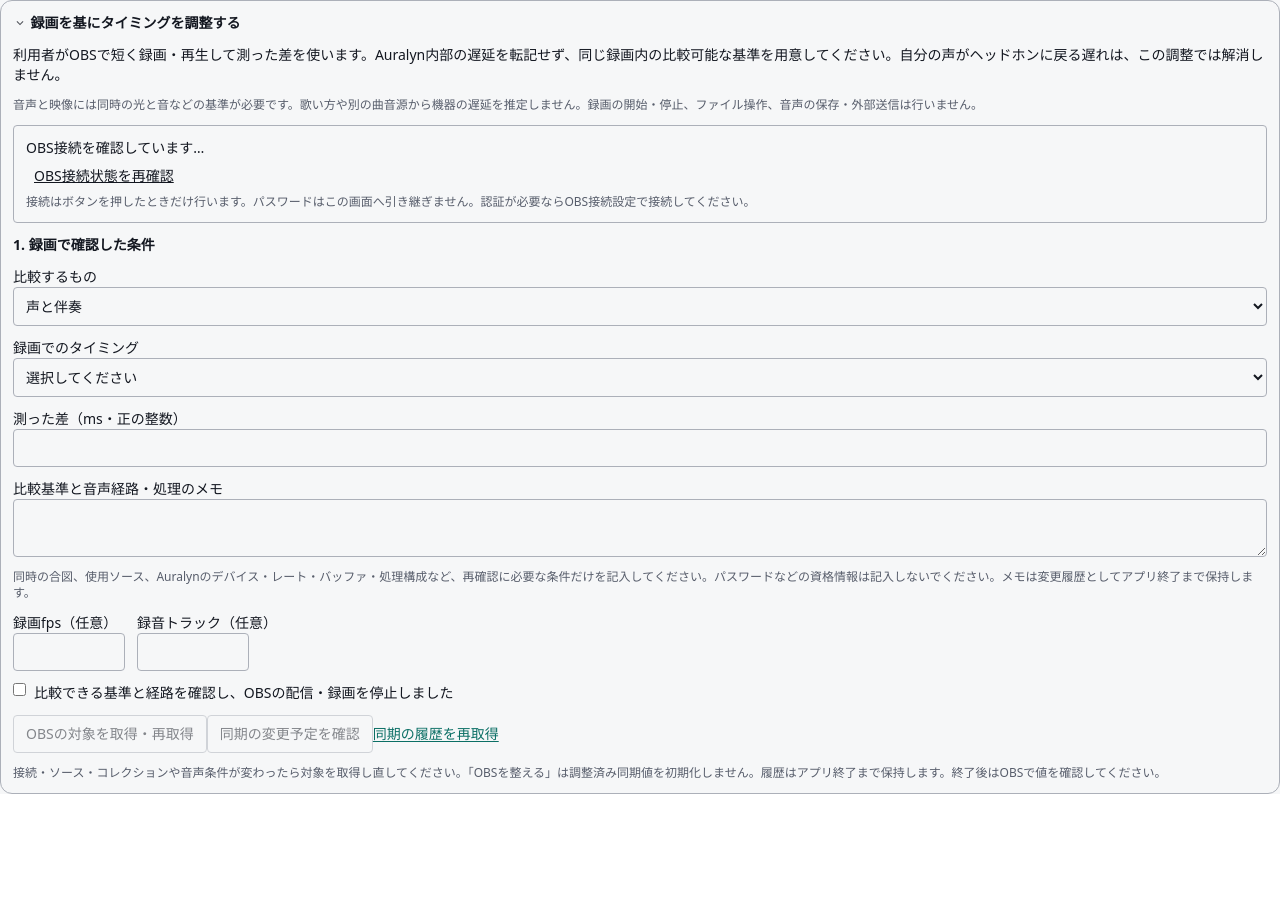
it: API未対応は対象選択や適用へ進めず手動確認を残す
Select "声と伴奏" in the dropdown labelled "比較するもの" at (640, 306), box [13,287,1267,326]
Select "声が伴奏より早い" in the dropdown labelled "録画でのタイミング" at (640, 378), box [13,358,1267,397]
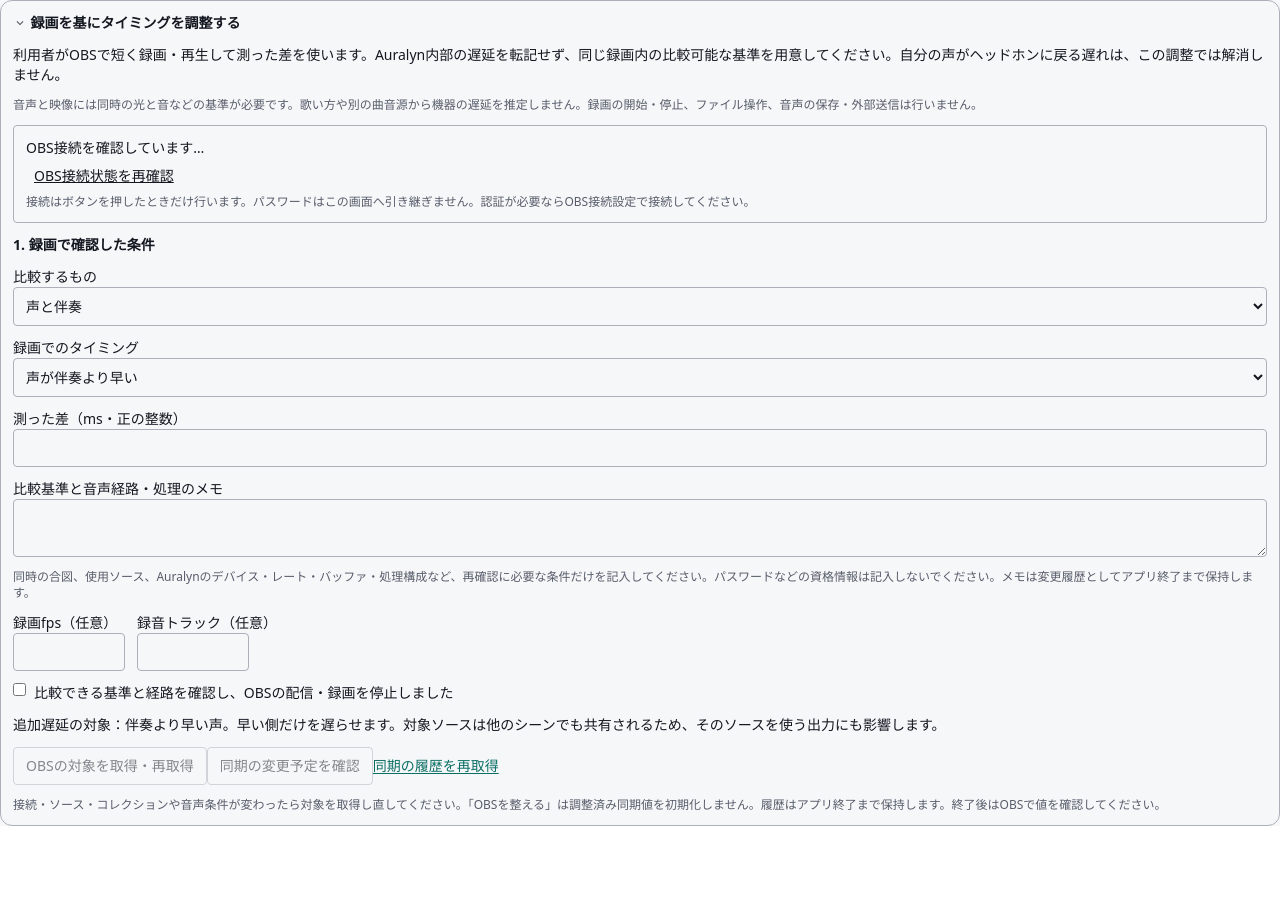
Type "120" into the number field labelled "測った差（ms・正の整数）" at (640, 448), box [13,429,1267,467]
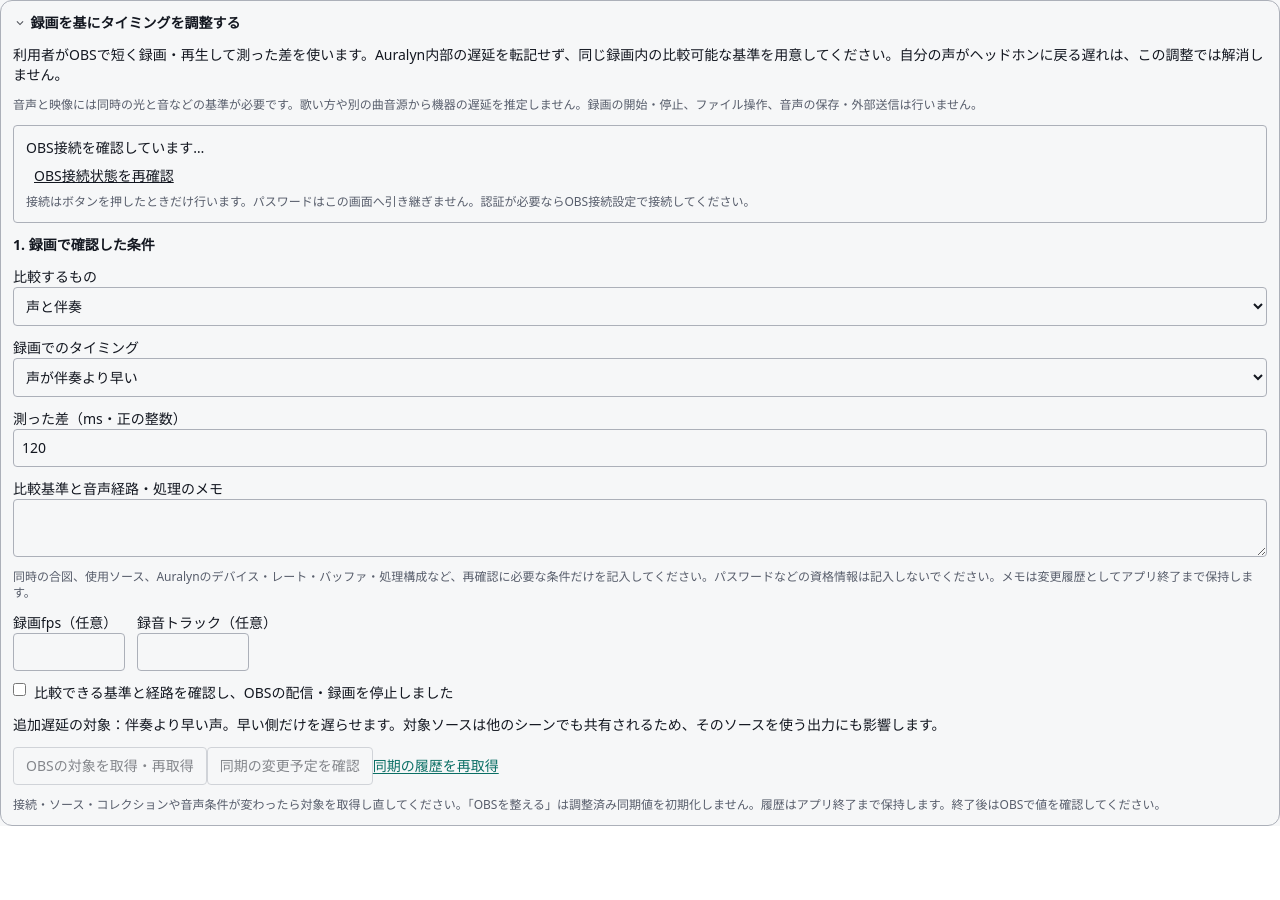
Type "同じ録画の同時の合図" into the text box labelled "比較基準と音声経路・処理のメモ" at (640, 528), box [13,499,1267,557]
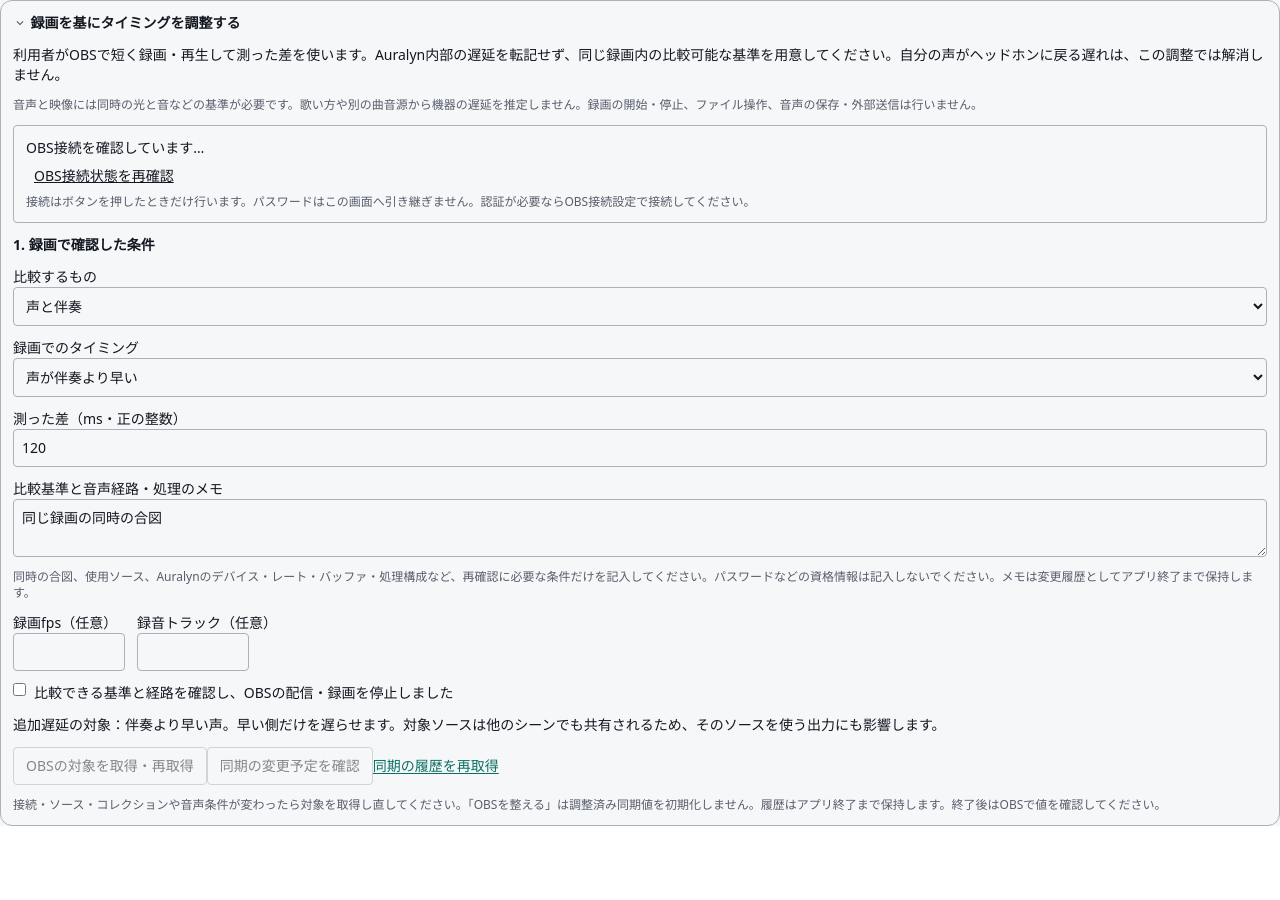
Click the checkbox at (20, 690), box [13,683,26,696]
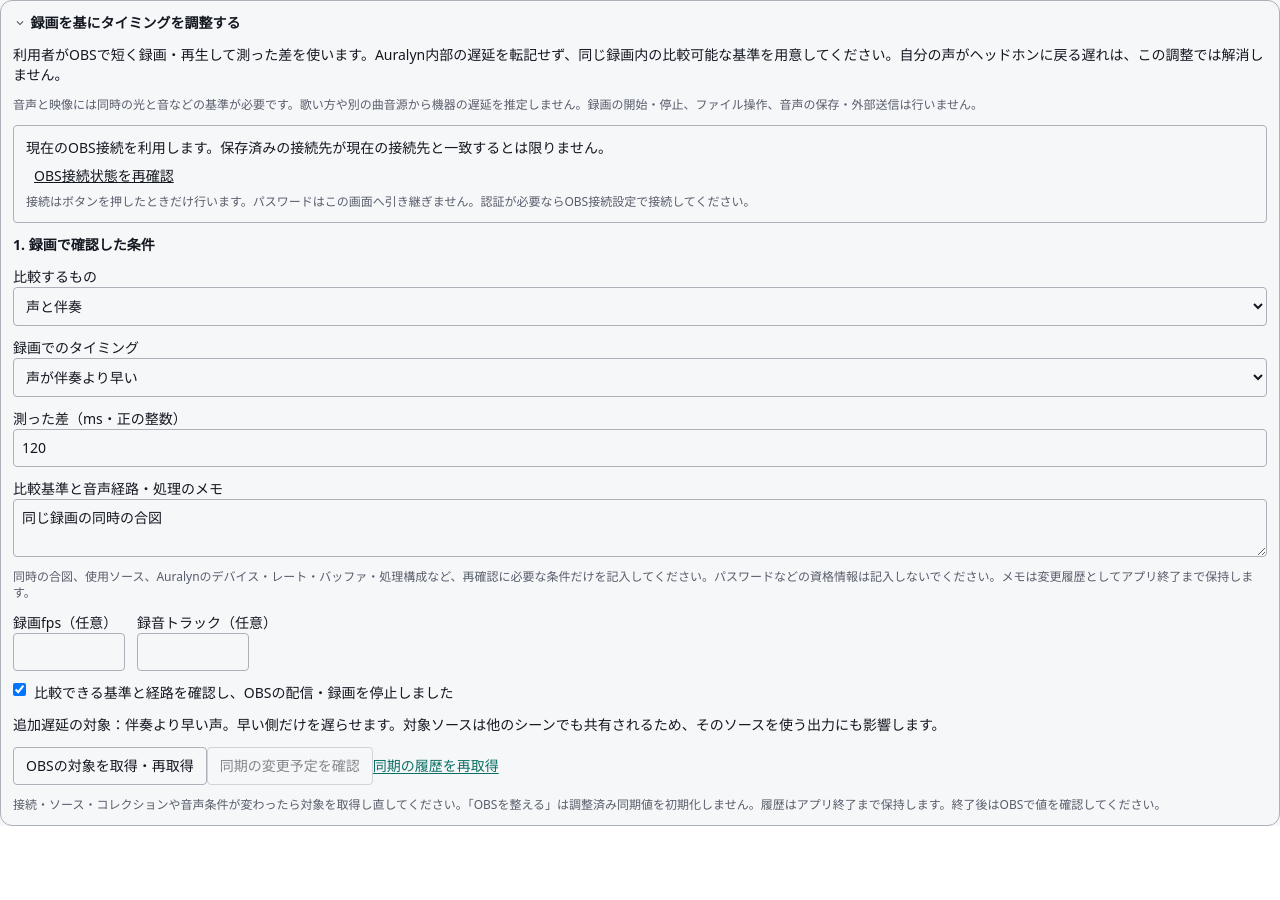
Now the button "OBSの対象を取得・再取得" is enabled
Click the button "OBSの対象を取得・再取得" at (110, 766), box [13,747,207,785]
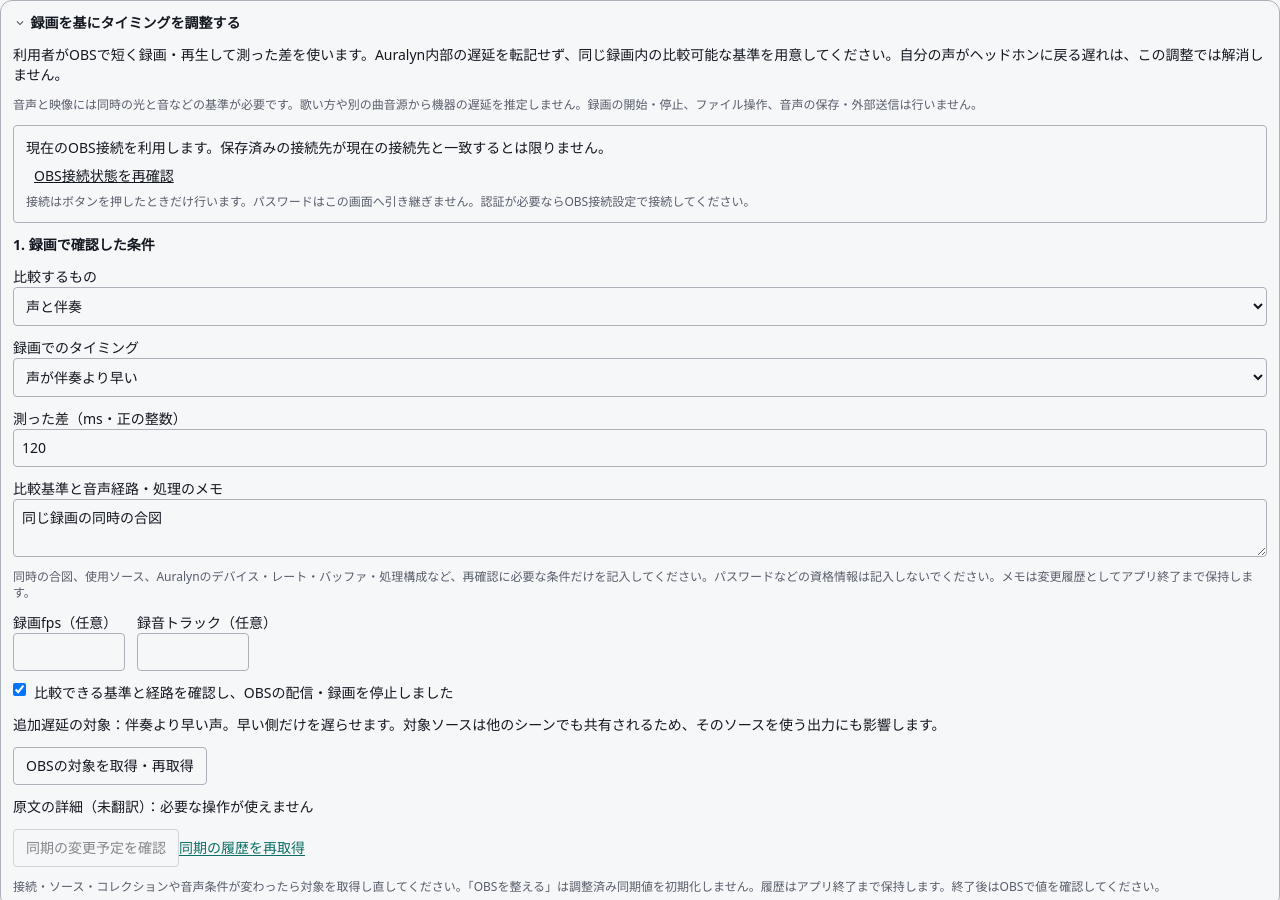
Now the text "原文の詳細（未翻訳）：必要な操作が使えません" is shown, box [13,797,314,816]
